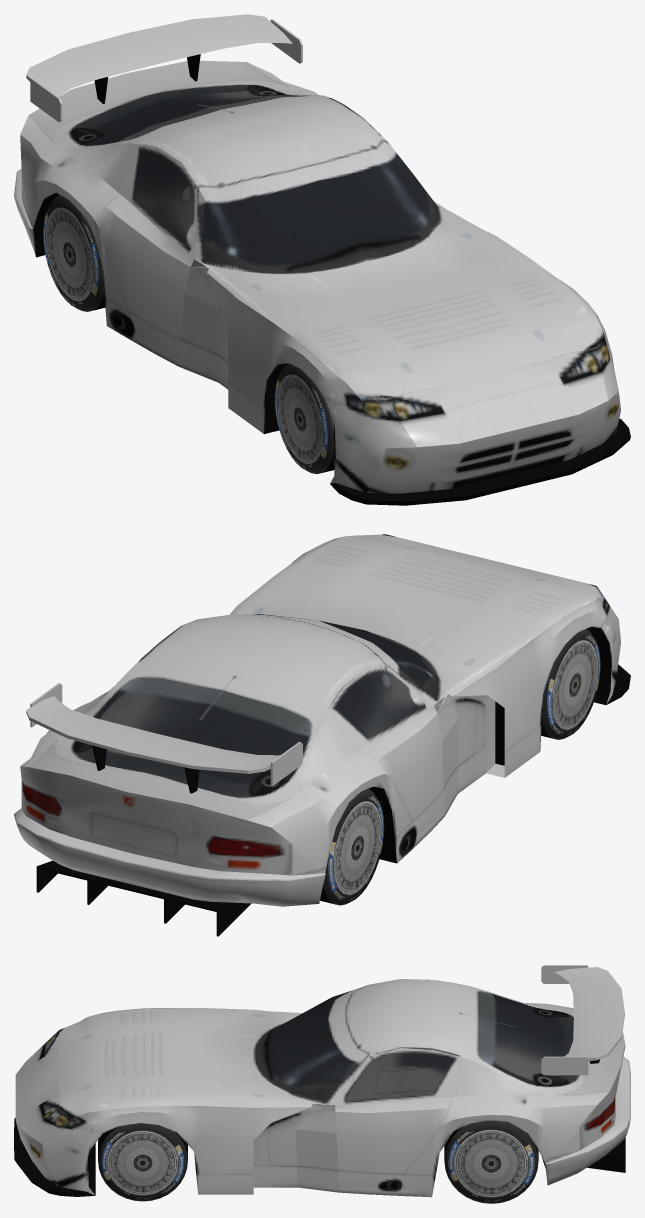
The model's file is viper.glb.
3 renders of one model, top to bottom at view 1: azimuth 30°, elevation 25°; view 2: azimuth 150°, elevation 25°; view 3: azimuth 270°, elevation 25°, orthographic. The views are drawn at different scales.
Parts seen in each view (by area): view 1: Body, Body_RearWing, Wheel_RR, Wheel_FR, Light_Head; view 2: Body, Body_RearWing, Wheel_RR, Wheel_FR, Body_RearDiffuser, Light_Tail; view 3: Body, Wheel_RL, Body_RearWing, Wheel_FL, Light_Head, Body_RearDiffuser.
Boxes of the visible parts, <box> form: Body: <box>14,60,630,505</box>; Body_RearWing: <box>26,14,302,122</box>; Wheel_RR: <box>43,195,105,311</box>; Wheel_FR: <box>274,363,334,473</box>; Light_Head: <box>345,333,609,420</box>; Body: <box>14,534,630,906</box>; Body_RearWing: <box>26,683,302,793</box>; Wheel_RR: <box>320,788,384,905</box>; Wheel_FR: <box>541,629,600,739</box>; Body_RearDiffuser: <box>36,860,251,936</box>; Light_Tail: <box>23,783,281,856</box>; Body: <box>14,979,630,1197</box>; Wheel_RL: <box>444,1120,538,1203</box>; Body_RearWing: <box>541,965,624,1075</box>; Wheel_FL: <box>98,1123,187,1201</box>; Light_Head: <box>39,1028,85,1128</box>; Body_RearDiffuser: <box>587,1137,625,1172</box>.
Bounding box in the file's own units: 1.88 × 1.13 × 4.38.
Materials: 4 (2 with a texture image).
